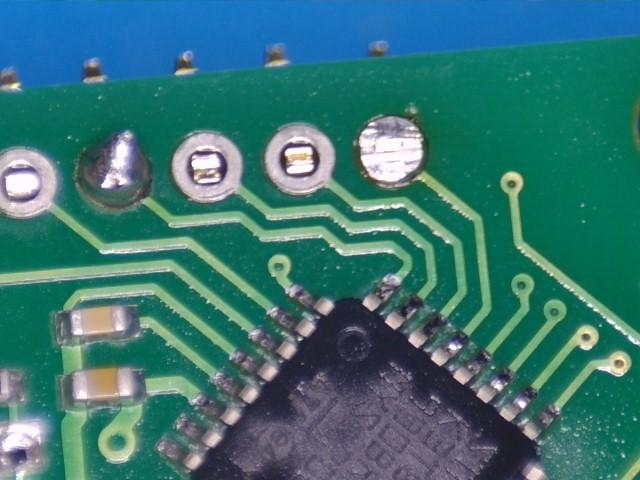Dry_joint: (81, 131, 151, 207)
